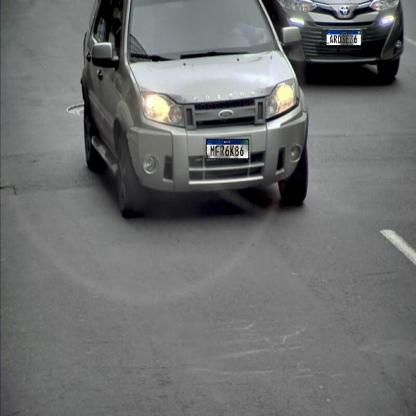PlacaM: (206, 138, 249, 160), (326, 30, 361, 46)
